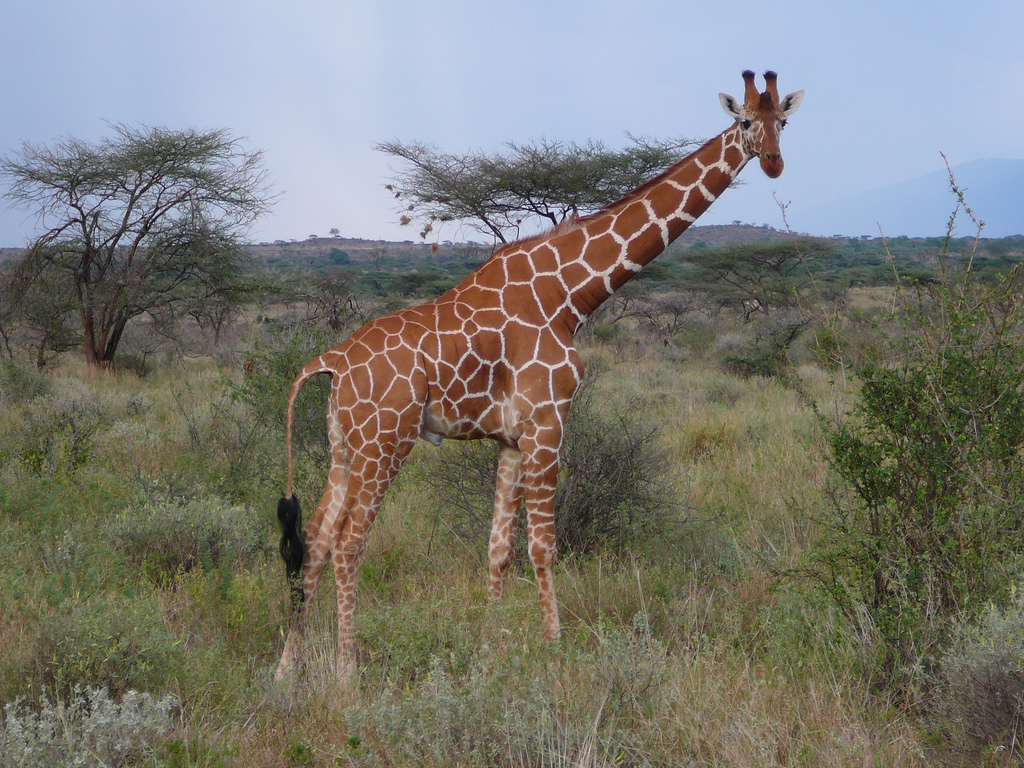giraffe: (228, 65, 838, 604)
